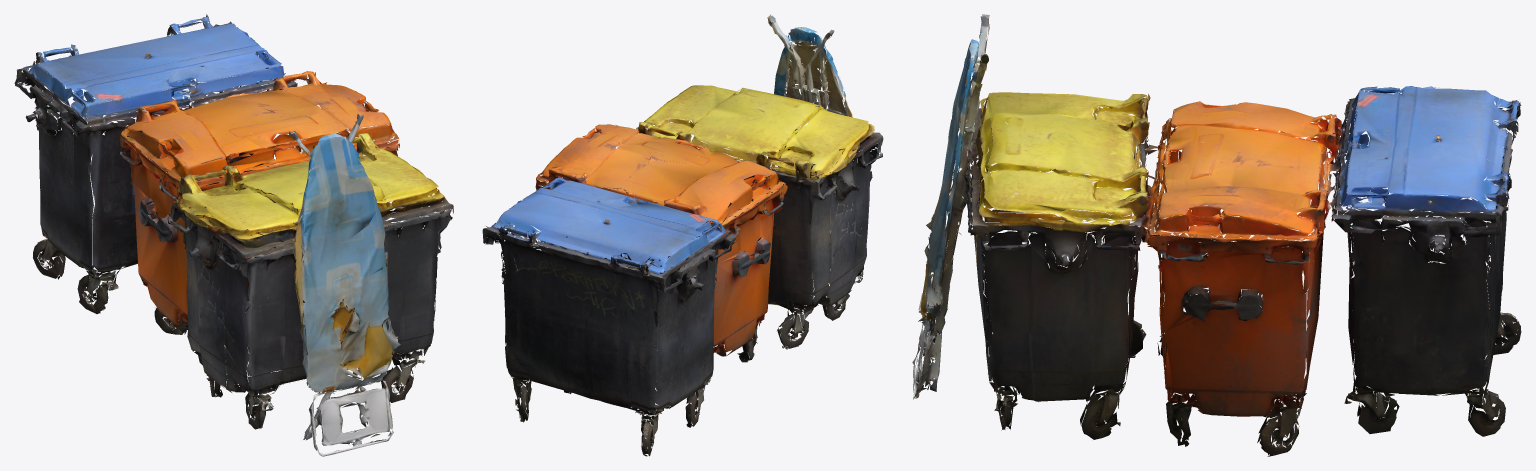
The model's file is bk_dumpsters.glb.
3 renders of one model, left to right at view 1: azimuth 30°, elevation 25°; view 2: azimuth 150°, elevation 25°; view 3: azimuth 270°, elevation 25°, orthographic. The views are drawn at different scales.
Visible parts, largest first — view 1: Big Trashbins (Photoscan); view 2: Big Trashbins (Photoscan); view 3: Big Trashbins (Photoscan).
Boxes of the visible parts, x1,y1,x2,y2 form: Big Trashbins (Photoscan): (14, 14, 453, 456); Big Trashbins (Photoscan): (482, 14, 883, 456); Big Trashbins (Photoscan): (912, 14, 1521, 456).
Bounding box in the file's own units: 1.9 × 2.15 × 3.38.
1 material, 1 textured.
